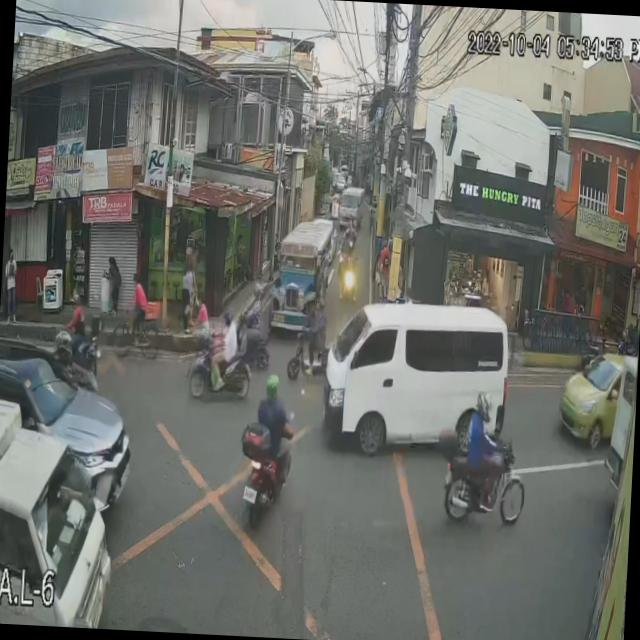full: (475, 388, 493, 426), (54, 328, 72, 352)
invalid: (264, 373, 280, 402)
